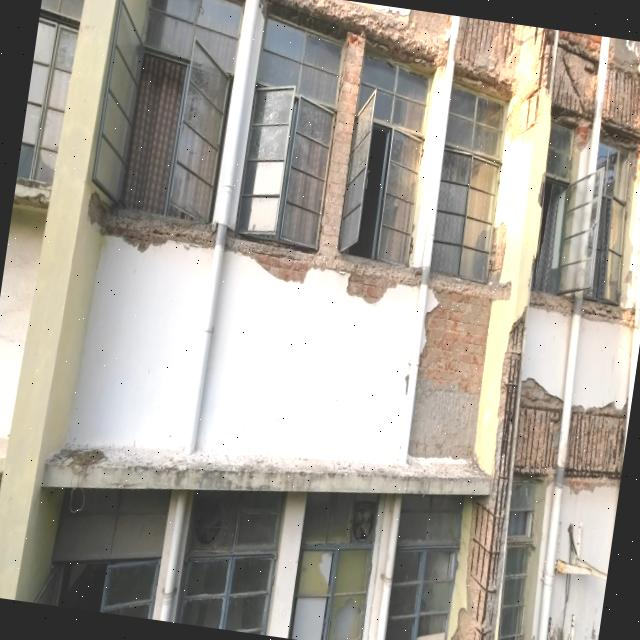Spalling: (452, 319, 524, 640), (267, 0, 448, 68), (89, 195, 215, 248), (514, 379, 561, 477), (566, 404, 624, 478), (553, 45, 597, 117), (602, 65, 640, 140), (458, 17, 515, 66)
exposed brickwork: (411, 287, 492, 459), (251, 254, 313, 283), (347, 273, 397, 303)
